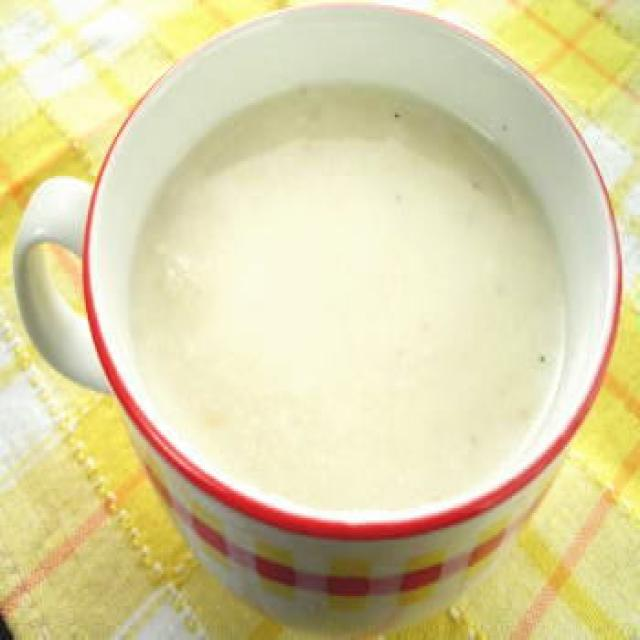汤锅炖物: (77, 0, 618, 640)
